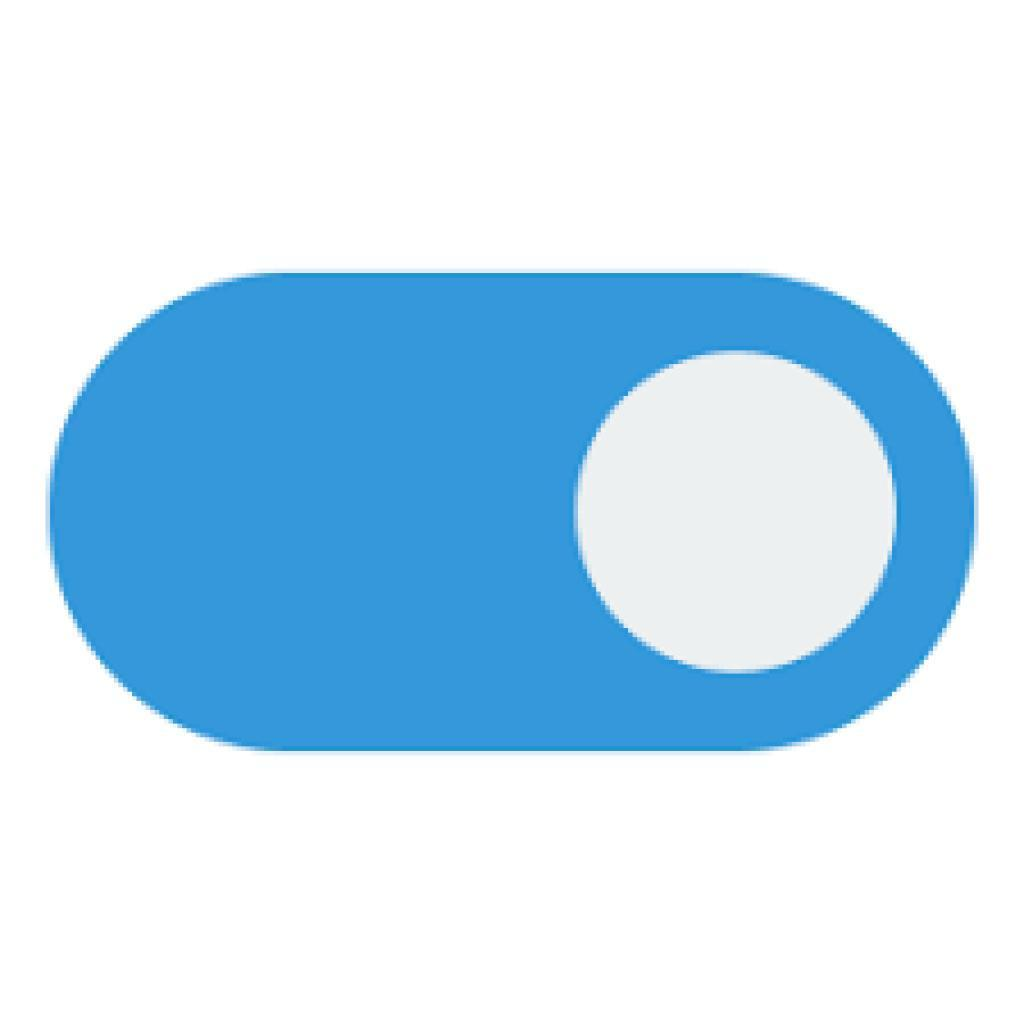switch: (49, 274, 980, 754)
